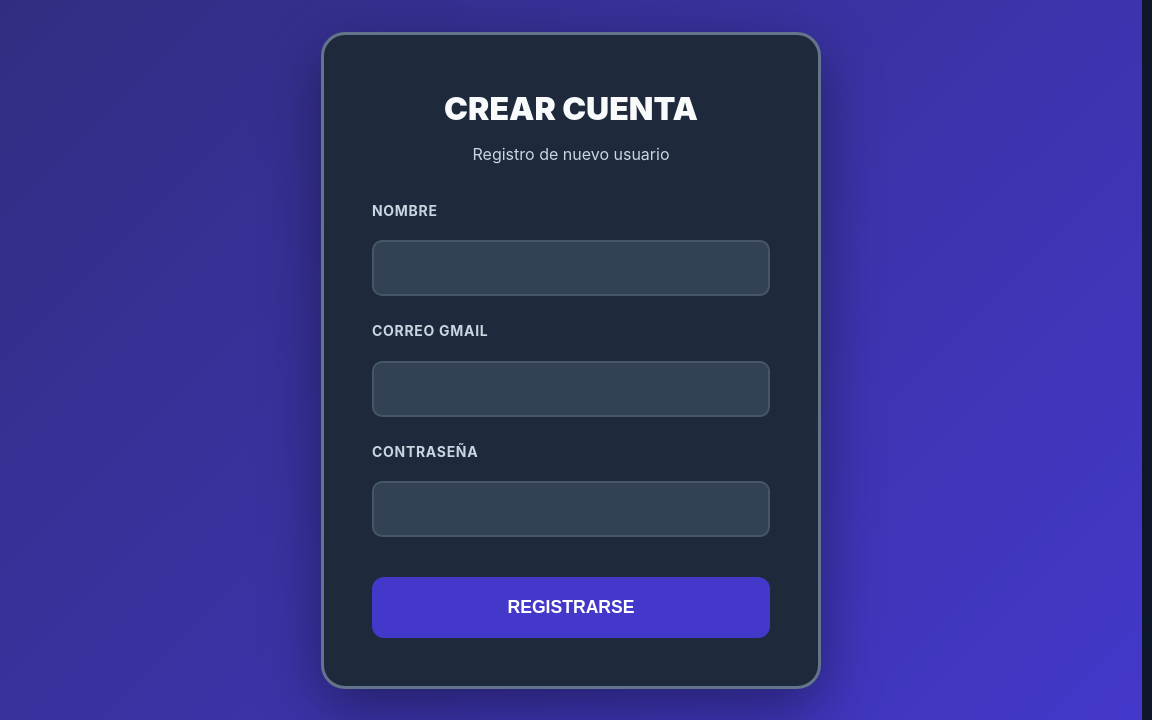
Scenario: Register Component › disables submit button while registration is loading
Type "Juan Pérez" into the field labelled "Nombre". click: coordinates (571, 268)
box: x1=372 y1=240 x2=770 y2=296
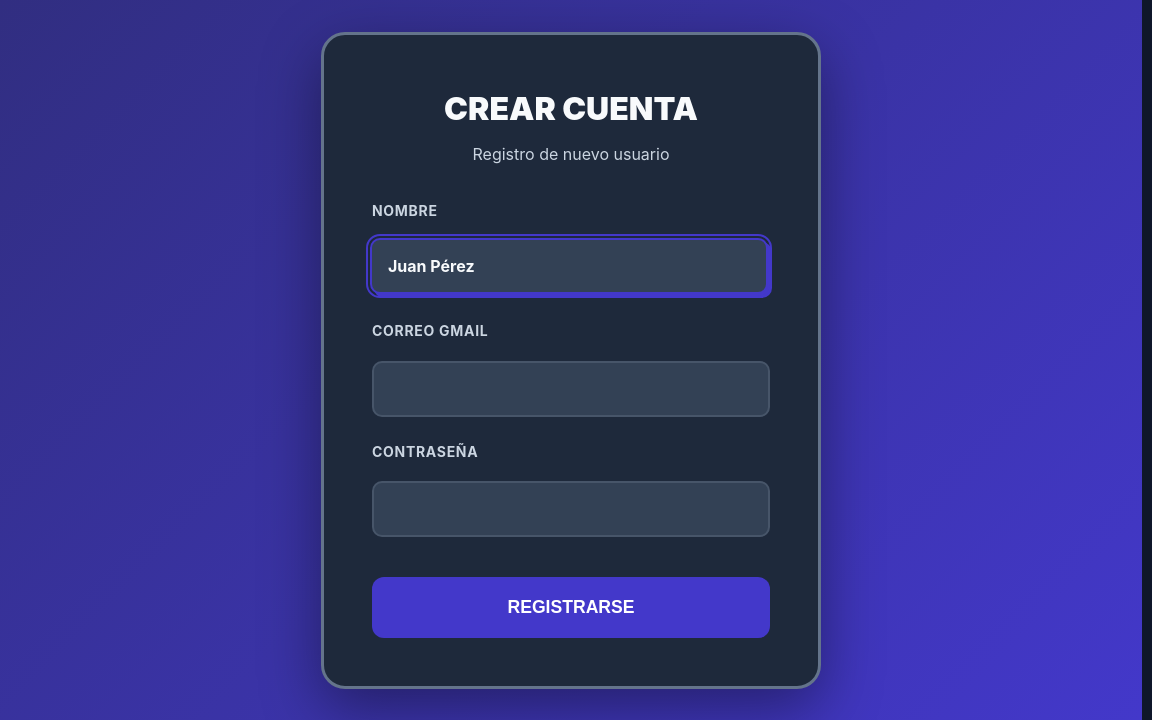
Type "juan@gmail.com" into the field labelled "Correo Gmail". click: coordinates (571, 389)
box: x1=372 y1=361 x2=770 y2=417
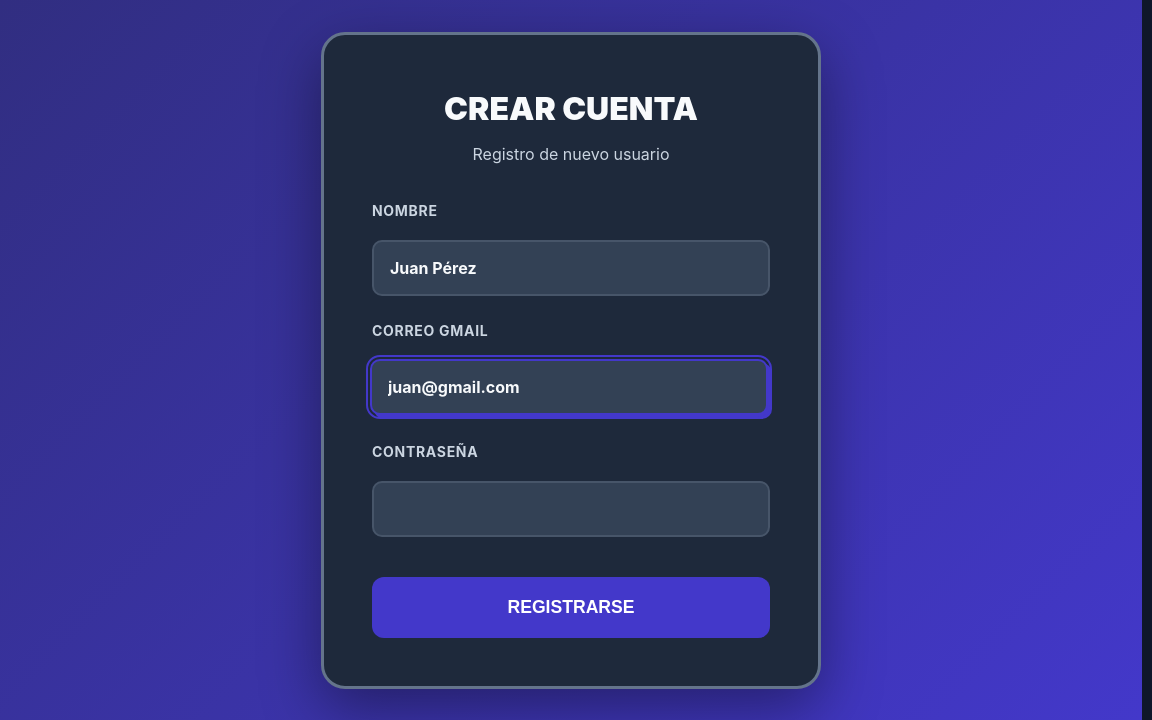
Type "Password123" into the password field labelled "Contraseña". click: coordinates (571, 509)
box: x1=372 y1=481 x2=770 y2=537
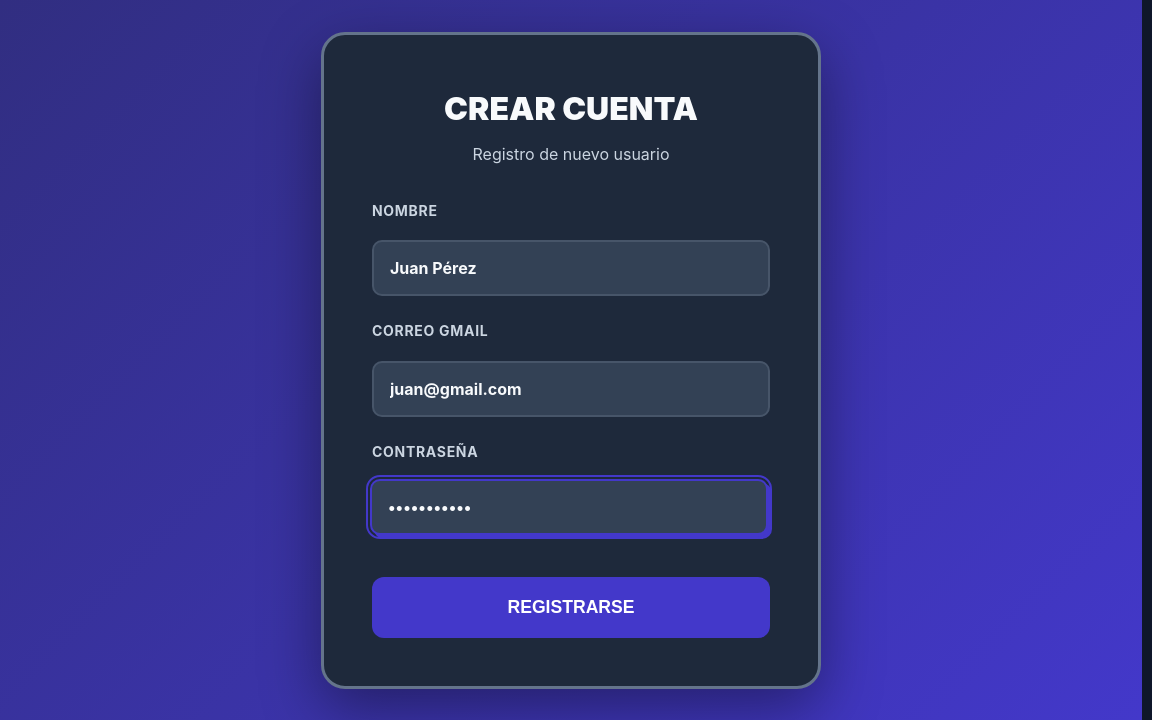
Click the button "Registrarse". click: coordinates (571, 608)
box: x1=372 y1=577 x2=770 y2=638
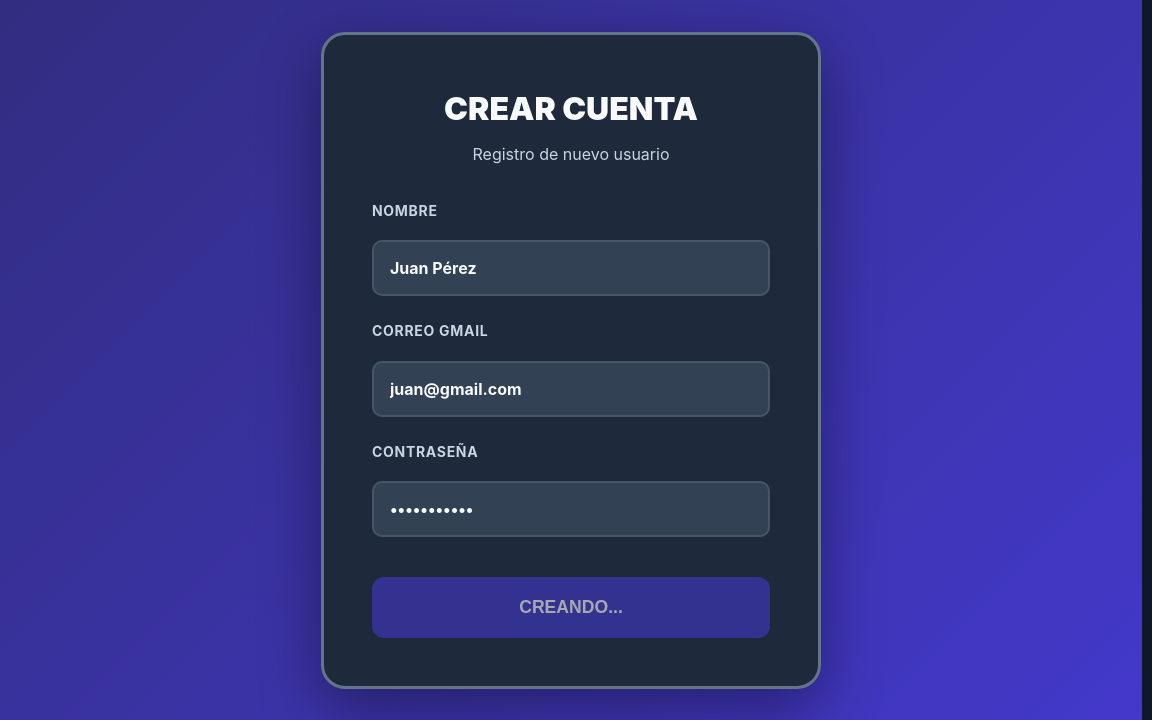
expect the button "Creando..." is disabled: met, box x1=372 y1=577 x2=770 y2=638
